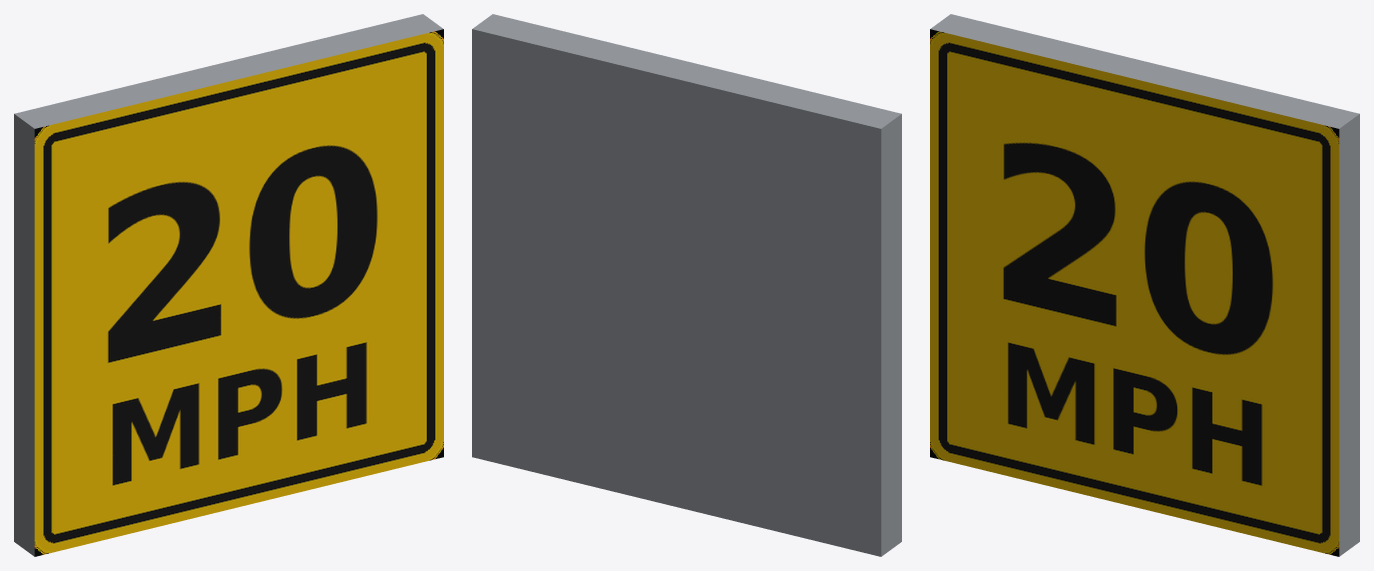
The model's file is us_advisory20.dae.
3 views of the same model, side by side, from view 1: azimuth 30°, elevation 25°; view 2: azimuth 150°, elevation 25°; view 3: azimuth 330°, elevation 25° (orthographic).
Visible parts, largest first — view 1: sign4, Colmesh-1; view 2: Colmesh-1; view 3: sign4, Colmesh-1.
Part boxes in pixels (box(x1,y1,x2,y2)): sign4: box(34, 29, 443, 556); Colmesh-1: box(14, 14, 443, 556); Colmesh-1: box(472, 14, 901, 556); sign4: box(930, 29, 1339, 556); Colmesh-1: box(930, 14, 1359, 556).
Bounding box in the file's own units: 0.4572 × 0.04 × 0.4572.
2 materials, 1 textured.
